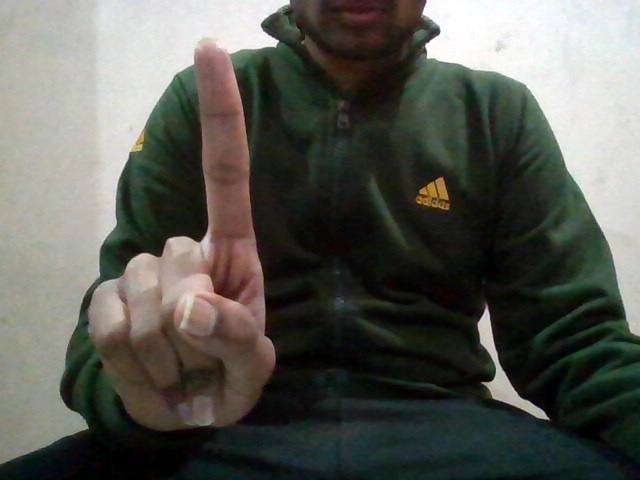D: (81, 32, 285, 432)
